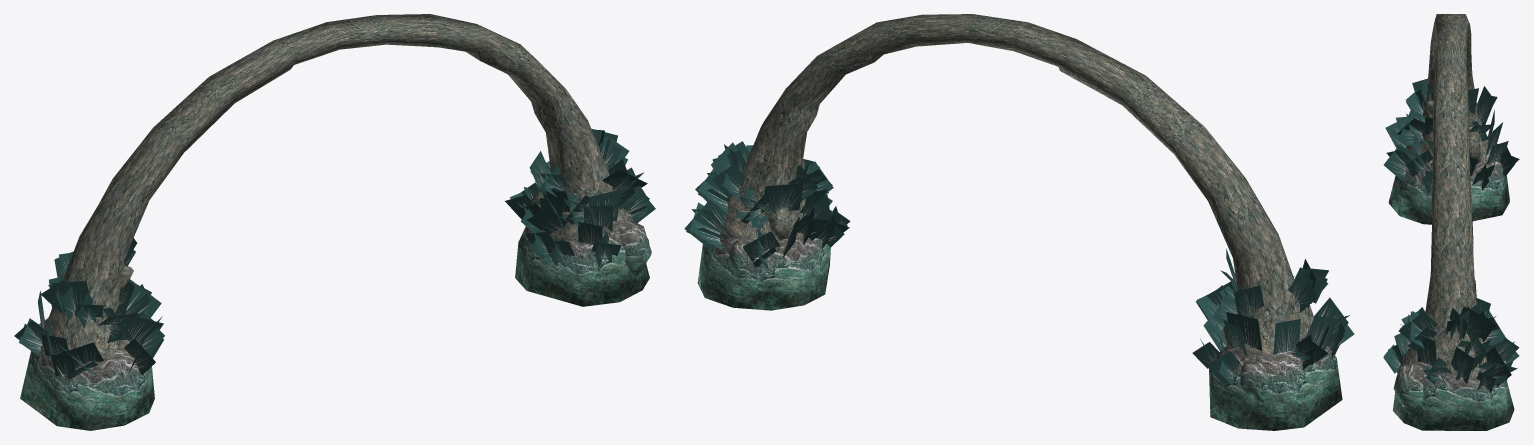
Rendered from rock_crystl_arch_sm_l1.fbx.
The picture shows the model from 3 angles, left to right: view 1: azimuth 30°, elevation 25°; view 2: azimuth 150°, elevation 25°; view 3: azimuth 270°, elevation 25°; orthographic projection. The views are drawn at different scales.
Parts seen in each view (by area): view 1: mesh_node; view 2: mesh_node; view 3: mesh_node.
Part boxes in pixels (bbox=[...]): mesh_node: bbox=[14, 14, 655, 430]; mesh_node: bbox=[684, 14, 1354, 430]; mesh_node: bbox=[1383, 14, 1519, 430].
Size of the model in its own units: 55.7 by 26.67 by 12.41.
